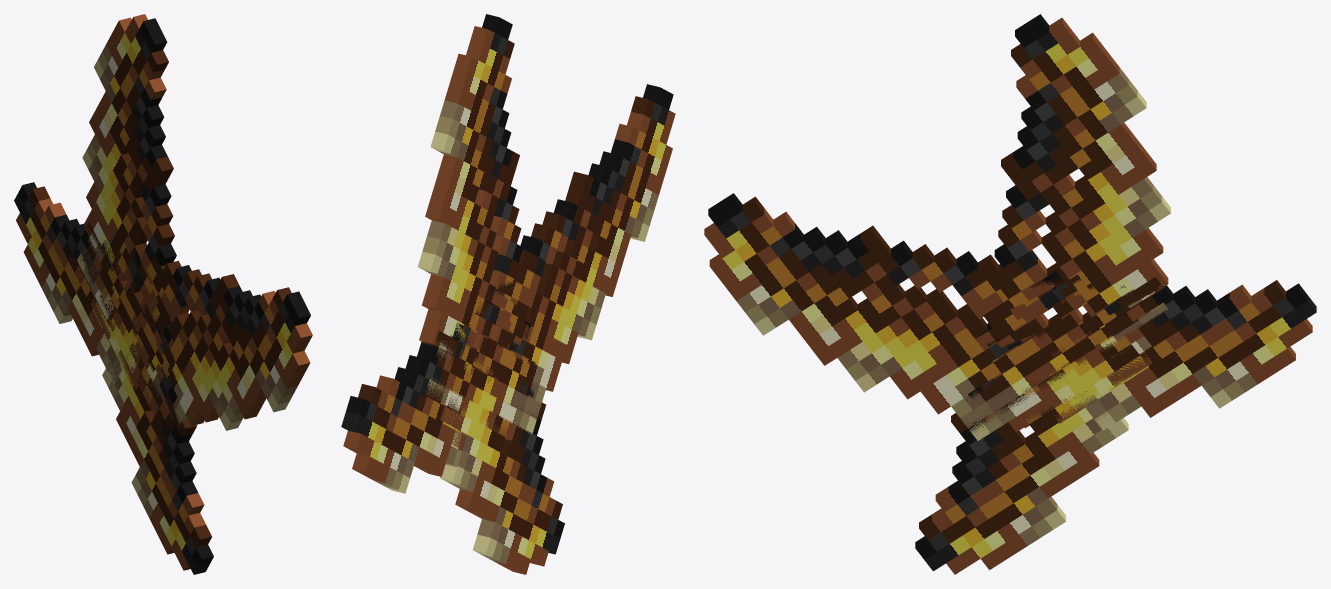
Rendered from blessed_gold_twin_blade.glb.
The picture shows the model from 3 angles, left to right: view 1: azimuth 30°, elevation 25°; view 2: azimuth 150°, elevation 25°; view 3: azimuth 270°, elevation 25°; orthographic projection. The views are drawn at different scales.
Visible parts, largest first — view 1: off__Tool_L, main__Tool_R; view 2: main__Tool_R, off__Tool_L; view 3: main__Tool_R, off__Tool_L.
Boxes of the visible parts, x1=… form: off__Tool_L: x1=77, y1=14, x2=213, y2=574; main__Tool_R: x1=14, y1=182, x2=312, y2=430; main__Tool_R: x1=341, y1=84, x2=675, y2=493; off__Tool_L: x1=418, y1=14, x2=564, y2=574; main__Tool_R: x1=704, y1=193, x2=1316, y2=440; off__Tool_L: x1=915, y1=14, x2=1170, y2=574.
Bounding box in the file's own units: 0.0531 × 2.22 × 2.22.
1 material, 1 textured.
